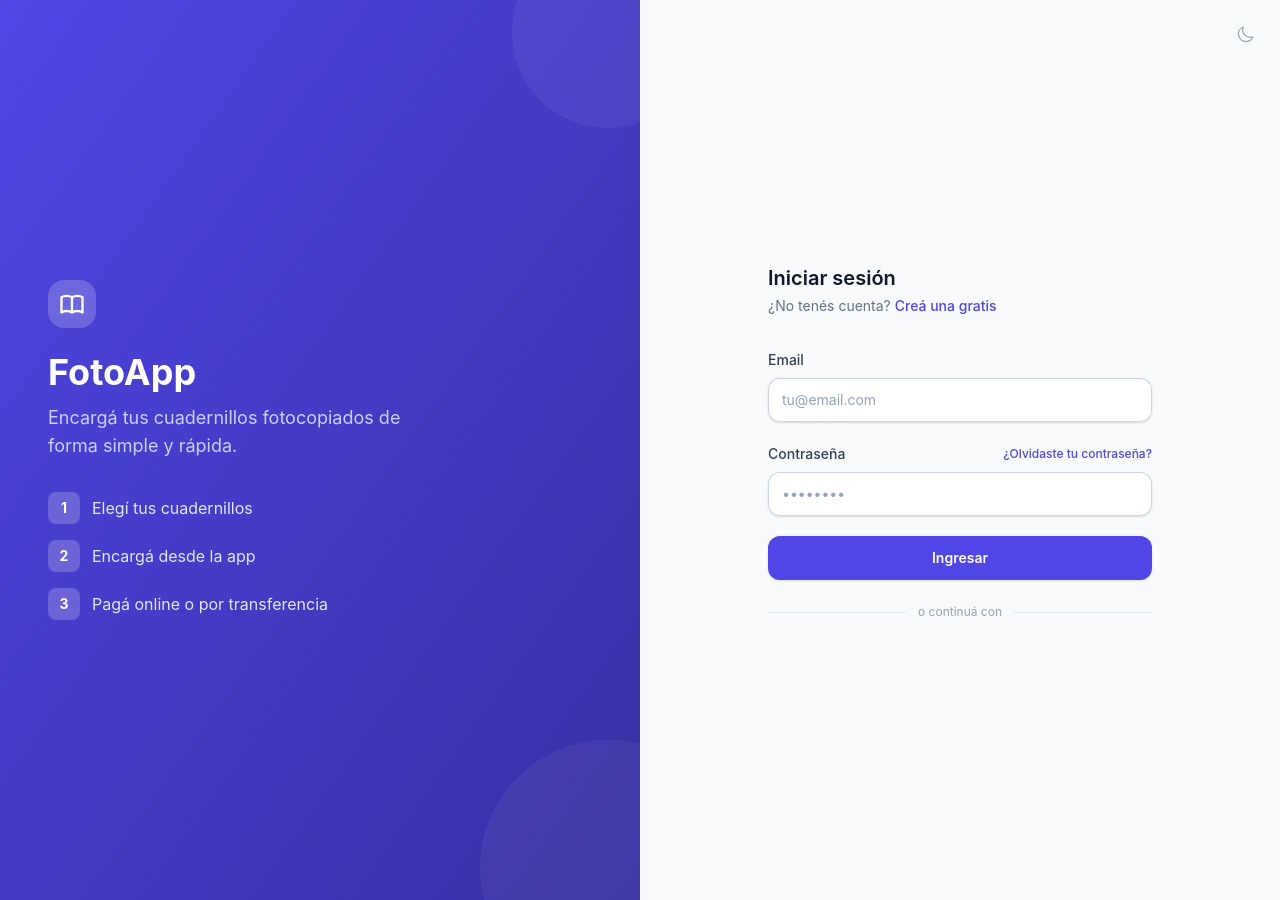
it: Login page › shows error on failed login
Type "test@test.com" into the field labelled "Email" at (960, 400), box [768,378,1152,422]
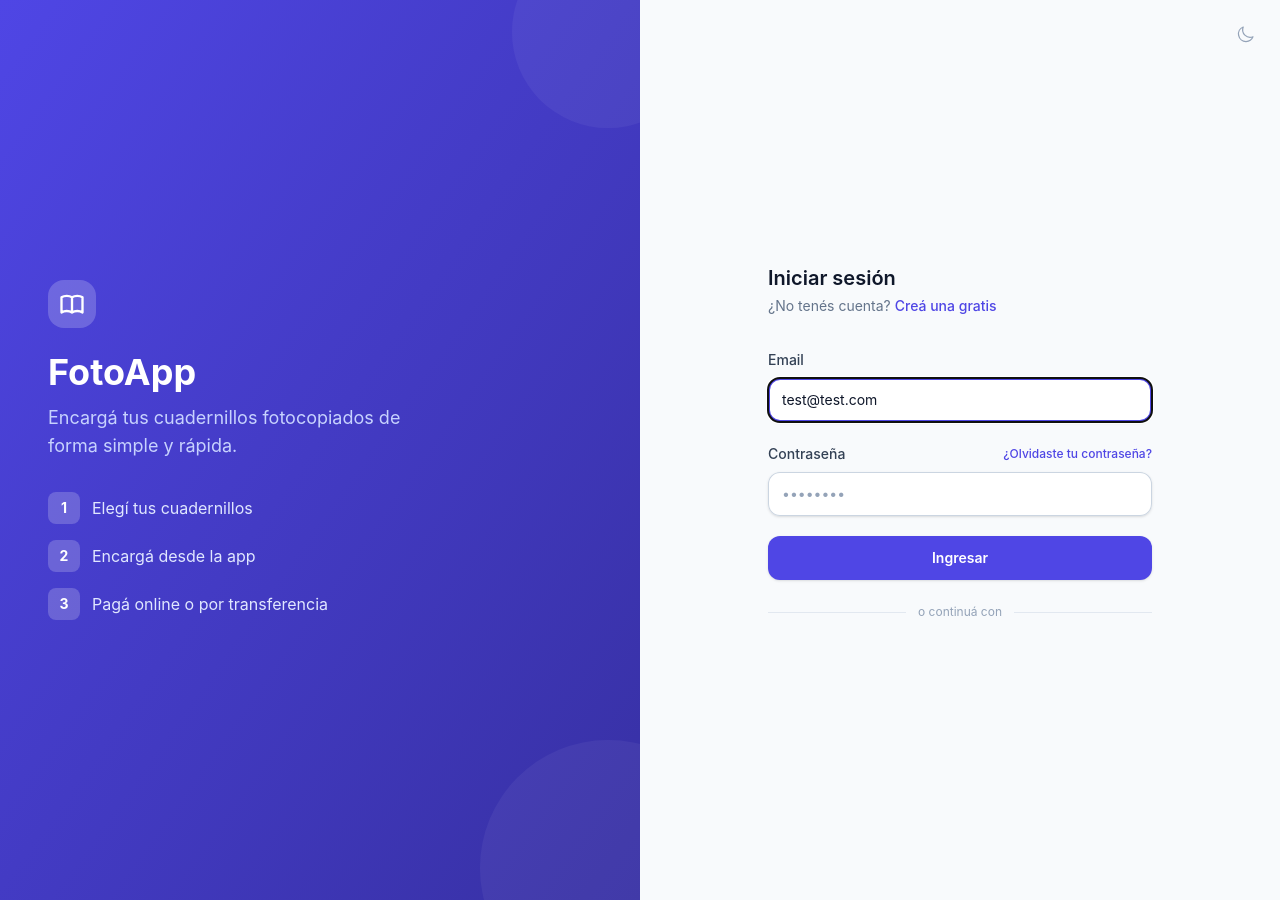
Type "wrong" into the password field labelled "Contraseña" at (960, 494), box [768,472,1152,516]
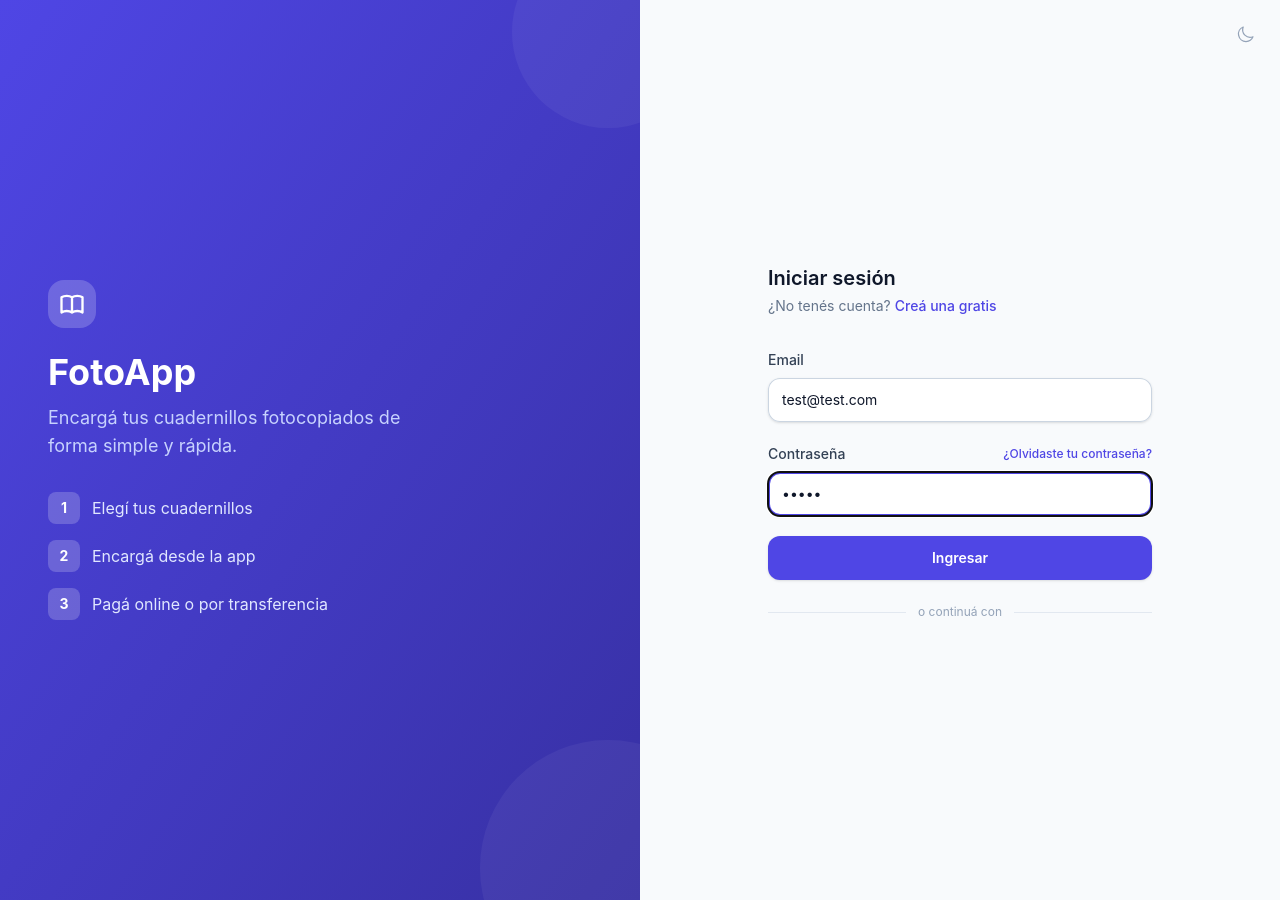
Click the button "Ingresar" at (960, 558), box [768,536,1152,580]
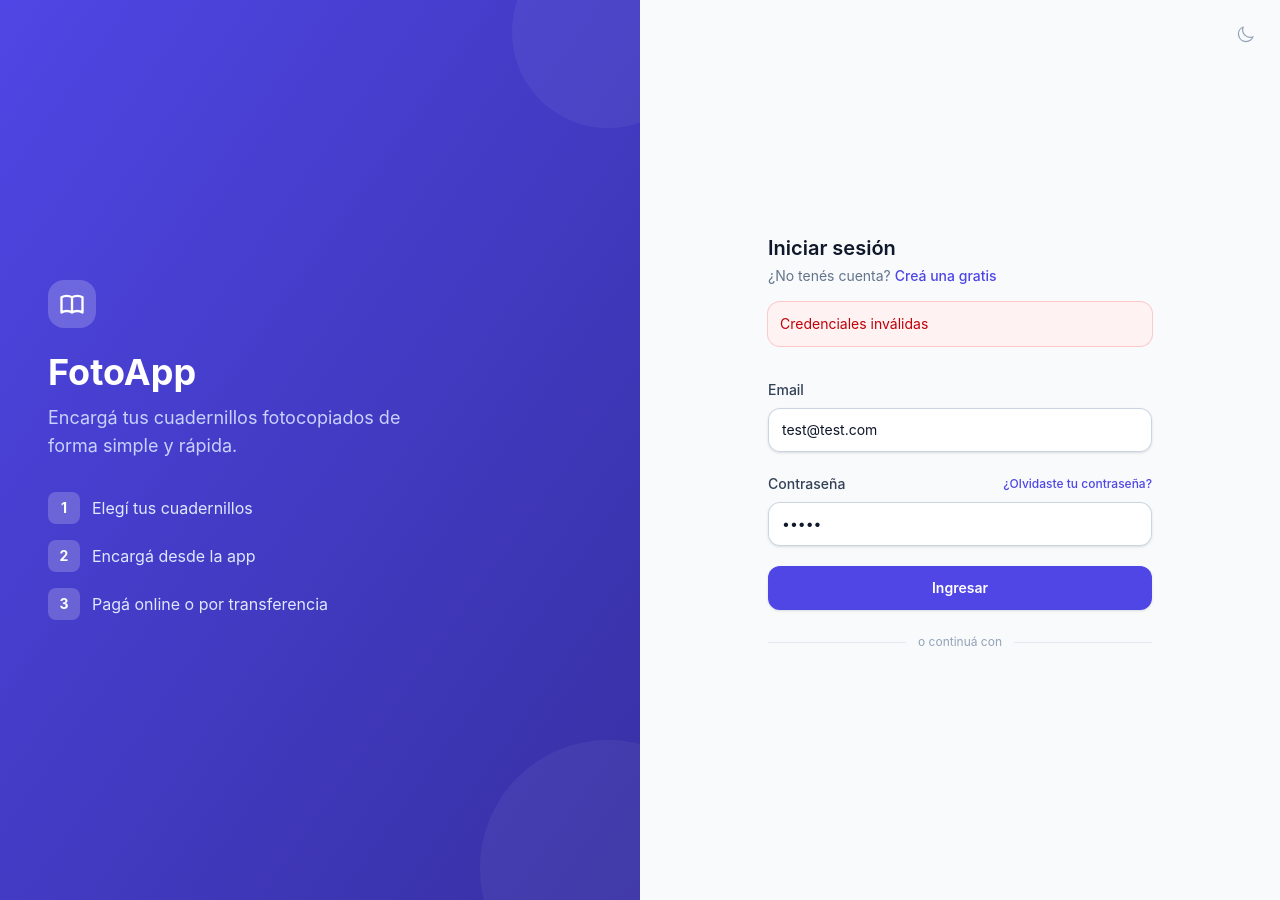
Result: the text "Credenciales inválidas" is shown at [768,302,1152,346]
